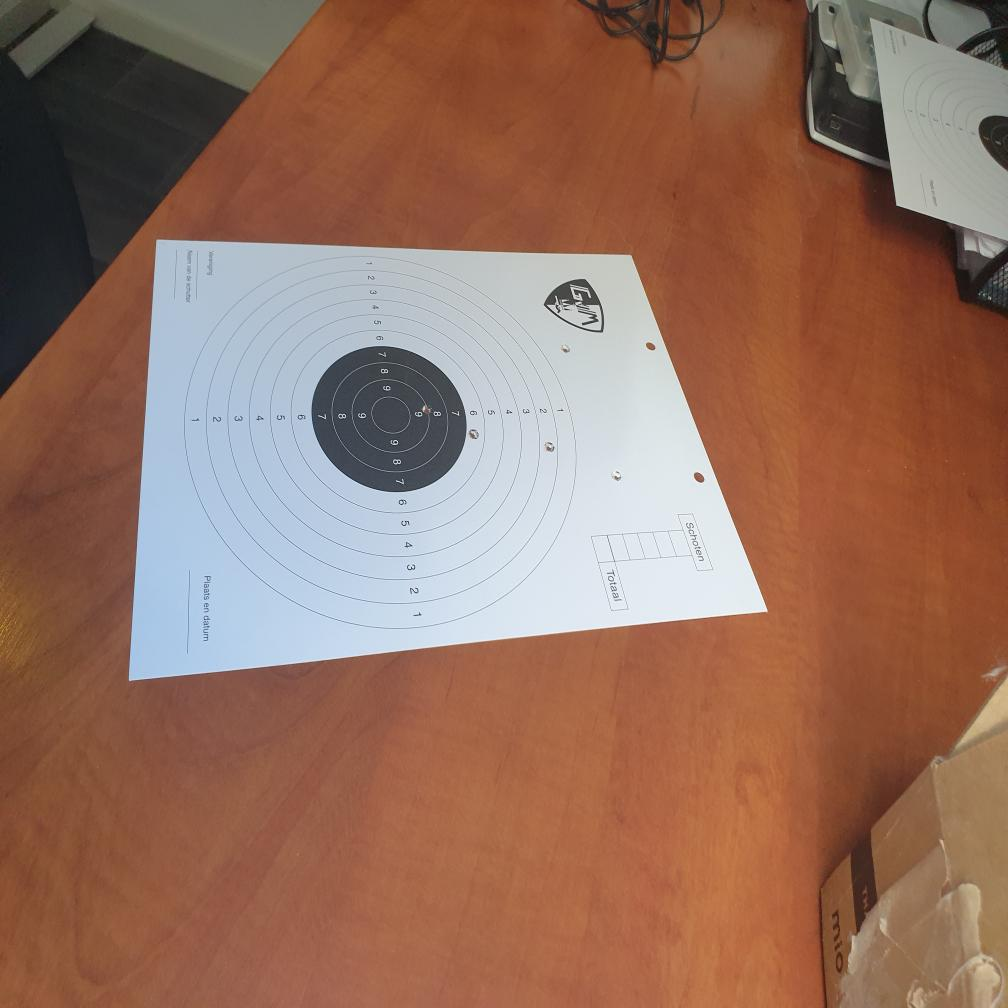0: (610, 470, 622, 482), (560, 343, 571, 354)
2: (544, 440, 555, 453)
6: (468, 428, 479, 440)
9: (420, 404, 433, 416)
Target: (182, 254, 579, 630)
black_contour: (311, 348, 467, 491)
